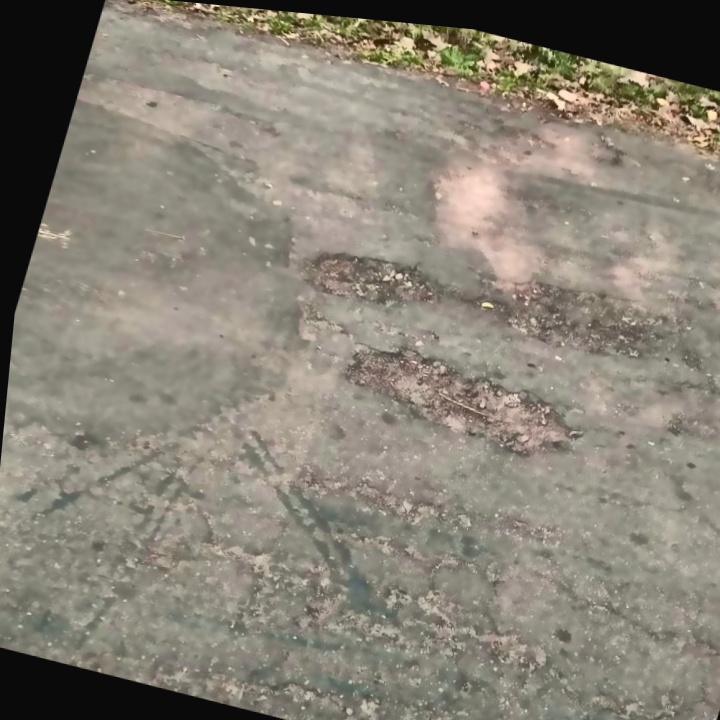pothole: (327, 328, 602, 472), (485, 264, 679, 375), (300, 234, 449, 324)
